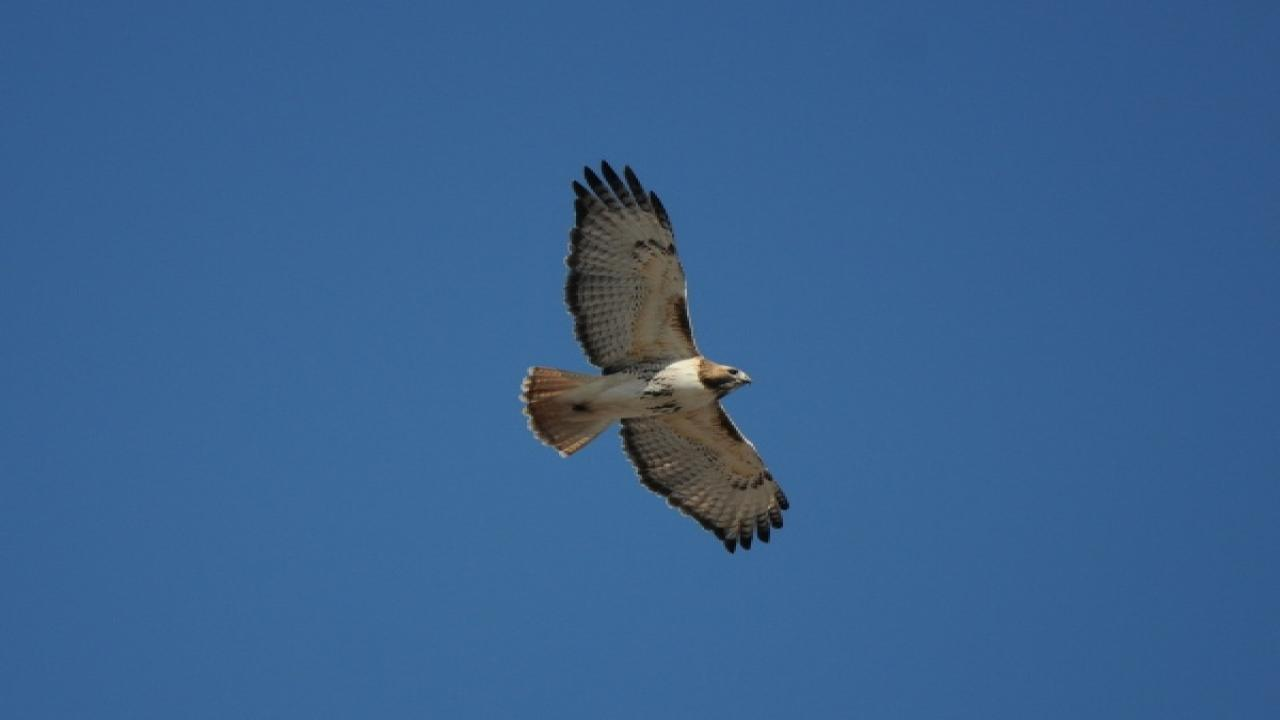Bird: (498, 149, 807, 565)
